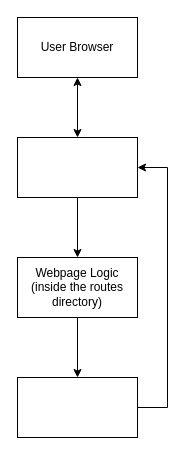
The diagram is 193 pixels wide and 455 high, and some of its shapes have lost their labels. The centre of each missing label's shape, as x and y in pixels:
"Flask Web App" belongs at (77,167).
"Jinja2 Templates" belongs at (77,407).
